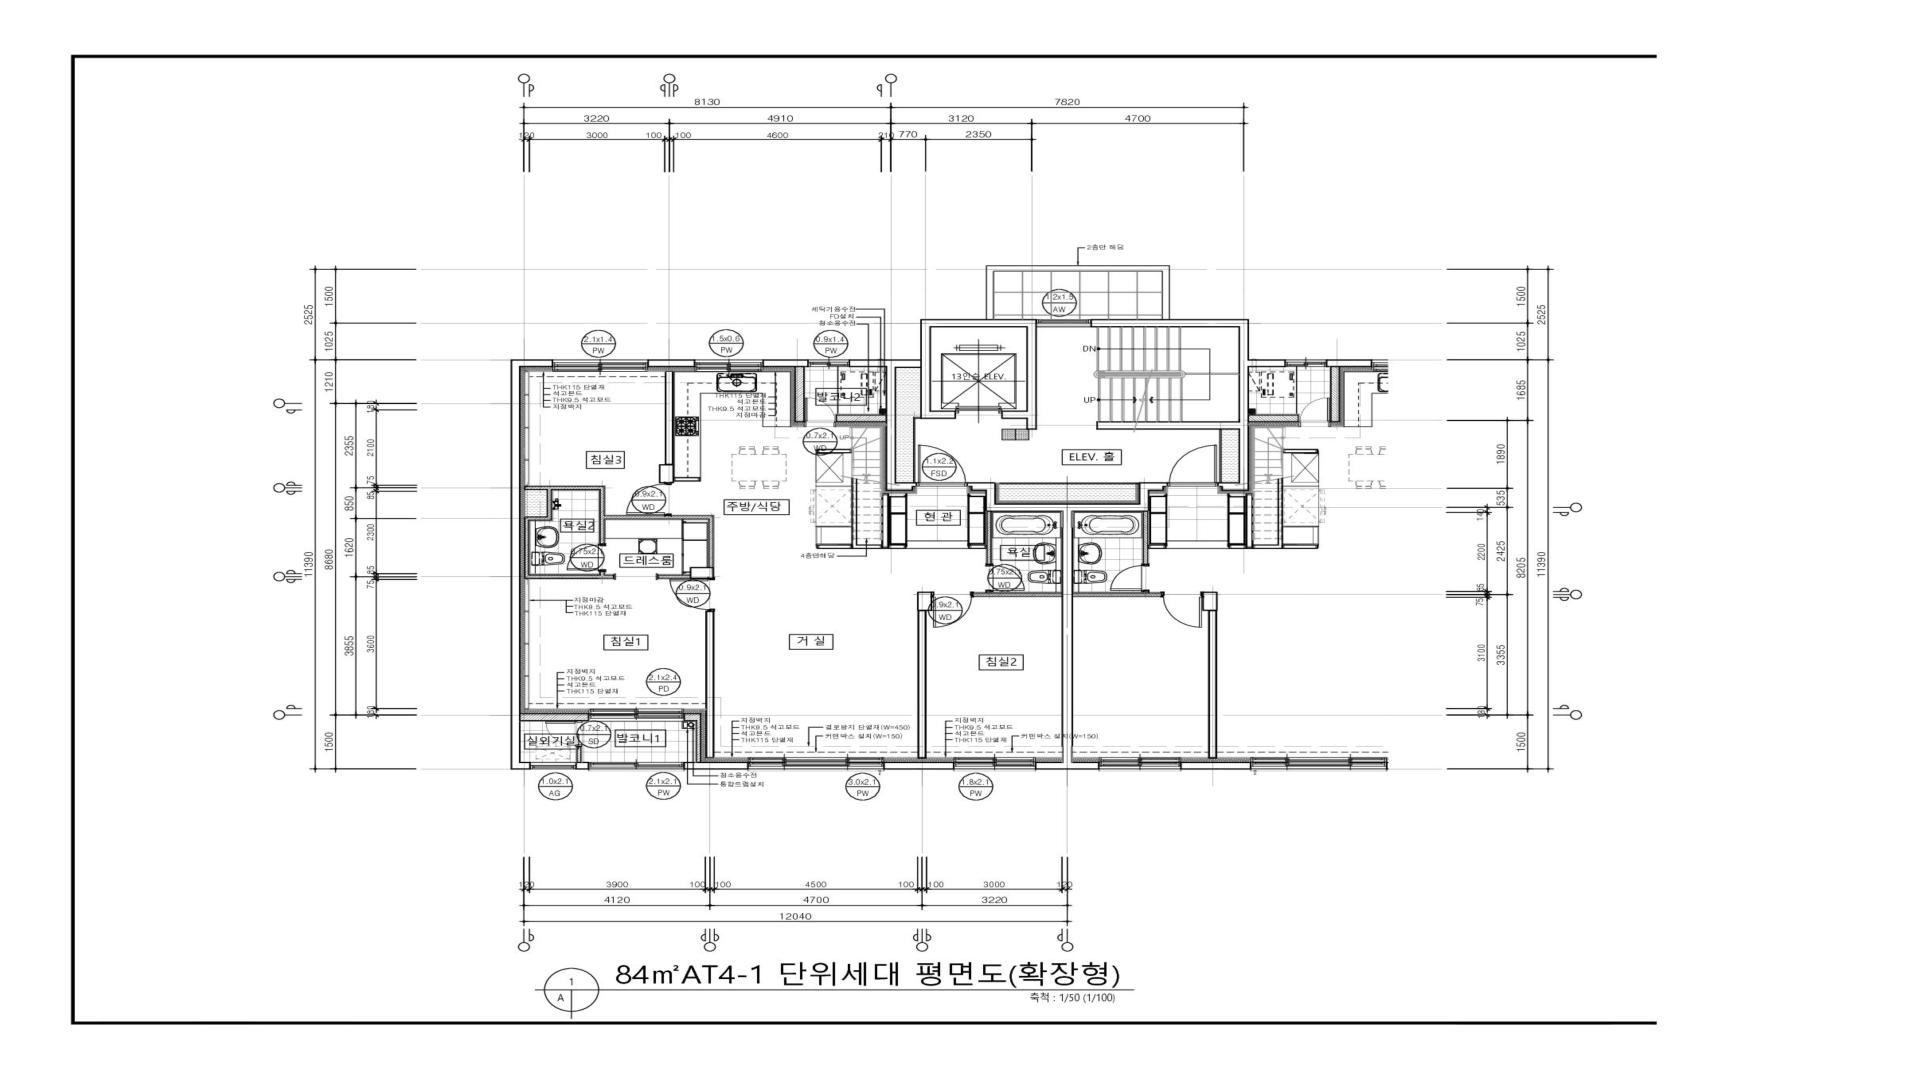door: (916, 444, 967, 487), (626, 483, 671, 516), (669, 579, 715, 611), (932, 592, 973, 628), (567, 543, 607, 571), (985, 564, 1025, 592), (546, 721, 583, 746), (806, 398, 836, 422)
wall: (967, 483, 1168, 770), (1091, 319, 1286, 491), (849, 319, 1038, 491), (524, 487, 713, 579), (510, 359, 553, 770), (816, 479, 906, 550), (916, 592, 932, 758), (659, 371, 674, 483), (705, 611, 715, 758), (968, 512, 992, 563), (684, 713, 702, 762), (794, 368, 806, 422), (521, 713, 589, 721), (913, 417, 920, 481), (684, 762, 748, 770), (885, 762, 953, 769), (647, 359, 694, 368), (764, 359, 808, 368), (836, 414, 886, 422), (996, 483, 1139, 485), (973, 592, 1062, 596), (1218, 430, 1222, 483), (815, 448, 852, 454), (675, 477, 702, 481), (576, 762, 589, 770), (576, 746, 582, 762)
window: (748, 757, 884, 769), (553, 360, 647, 372), (589, 708, 683, 719), (953, 757, 1035, 769), (695, 360, 764, 372), (589, 762, 684, 770), (1038, 319, 1091, 327), (531, 762, 576, 770), (808, 360, 849, 367)
